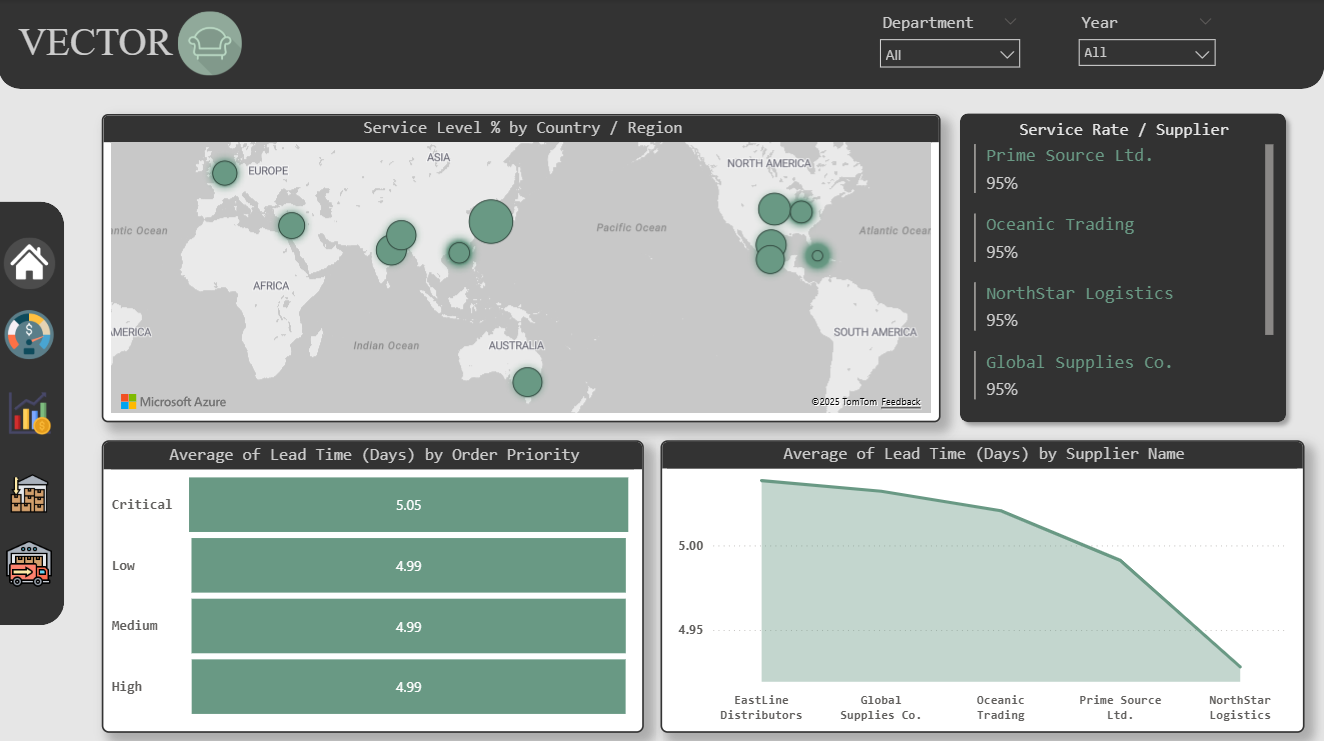

The page's visual inventory and layout, read from the dashboard file:
{"tool":"powerbi","page":{"name":"Logistics","canvas":[1280,720],"ordinal":4},"visuals":[{"type":"shape","box":[0,0,1280,86.9],"z":0,"group":"g5"},{"type":"shape","box":[0,195.4,63.9,409],"z":0,"group":"g4"},{"type":"funnel","fields":{"Y":["Avg(Fact_SC.Lead Time (Days))"],"Category":["Dim_OrderPriority.Order Priority"]},"box":[100.1,425.9,523.6,282.3],"z":0},{"type":"group","id":"g1","title":"Group 3","box":[0,0,1280,86.9],"z":500,"group":"g3"},{"type":"textbox","box":[14.5,14.5,170.1,55.5],"z":1000,"group":"g5"},{"type":"shape","box":[919.3,101.3,333,316.1],"z":1000,"group":"g2"},{"type":"image","box":[0.1,225.6,60.3,59.1],"z":1000,"group":"g4"},{"type":"lineChart","fields":{"Category":["Dim_Suppliers.Supplier Name"],"Y":["Avg(Fact_SC.Lead Time (Days))"]},"box":[639.4,425.9,621.3,282.3],"z":1000},{"type":"group","id":"g2","title":"Group 5","box":[919.3,101.3,333,316.1],"z":2000},{"type":"image","box":[0.1,293.1,60.3,61.5],"z":2000,"group":"g4"},{"type":"group","id":"g3","title":"Group 4","box":[0,0,1280,86.9],"z":3000},{"type":"image","box":[0.1,517.5,60.3,55.5],"z":3000,"group":"g4"},{"type":"azureMap","fields":{"Category":["Dim_Geo.Country / Region"],"Size":["Measurments.Service Level %"]},"box":[100.1,111,809.5,298],"z":4000},{"type":"image","box":[1.3,453.6,57.9,47.1],"z":4000,"group":"g4"},{"type":"group","id":"g4","title":"Group 1","box":[0,195.4,63.9,409],"z":5000},{"type":"image","box":[1.9,374,56.7,51.9],"z":5000,"group":"g4"},{"type":"image","box":[168.9,7.2,71.2,71.2],"z":5001,"group":"g3"},{"type":"multiRowCard","title":"Service Rate / Supplier","fields":{"Values":["Measurments.Service Level %","Dim_Suppliers.Supplier Name"]},"box":[937.1,117.4,298.7,277.1],"z":6000,"group":"g2"},{"type":"slicer","fields":{"Values":["Dim_Product.Department"]},"box":[840.9,8.4,155.6,71.2],"z":6004,"group":"g3"},{"type":"slicer","fields":{"Values":["Dim_Date.Year"]},"box":[1032.7,8.4,152,71.2],"z":8000,"group":"g3"},{"type":"group","id":"g5","title":"Group 2","box":[0,0,1280,86.9],"z":9000,"group":"g1"}]}

Visuals, with their boxes on the page's 1280x720 design canvas (x1, y1, x2, y2). These are canvas units, not pixel positions in the 1324x741 screenshot, which may show the page scaled, cropped or inside an application window:
shape: [0, 0, 1280, 87]
shape: [0, 195, 64, 604]
funnel - Avg(Fact_SC.Lead Time (Days)) x Dim_OrderPriority.Order Priority: [100, 426, 624, 708]
"Group 3" group: [0, 0, 1280, 87]
textbox: [14, 14, 185, 70]
shape: [919, 101, 1252, 417]
image: [0, 226, 60, 285]
lineChart - Dim_Suppliers.Supplier Name x Avg(Fact_SC.Lead Time (Days)): [639, 426, 1261, 708]
"Group 5" group: [919, 101, 1252, 417]
image: [0, 293, 60, 355]
"Group 4" group: [0, 0, 1280, 87]
image: [0, 518, 60, 573]
azureMap - Dim_Geo.Country / Region x Measurments.Service Level %: [100, 111, 910, 409]
image: [1, 454, 59, 501]
"Group 1" group: [0, 195, 64, 604]
image: [2, 374, 59, 426]
image: [169, 7, 240, 78]
"Service Rate / Supplier" multiRowCard: [937, 117, 1236, 394]
slicer - Dim_Product.Department: [841, 8, 996, 80]
slicer - Dim_Date.Year: [1033, 8, 1185, 80]
"Group 2" group: [0, 0, 1280, 87]
